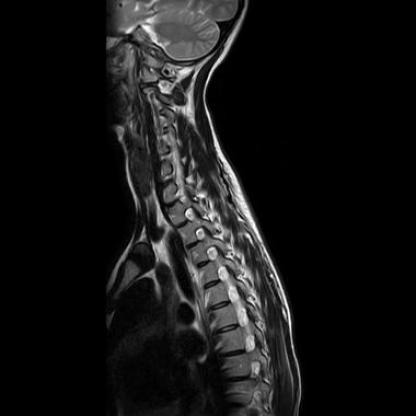Disc Bulgerotation: (160, 152, 172, 163)
